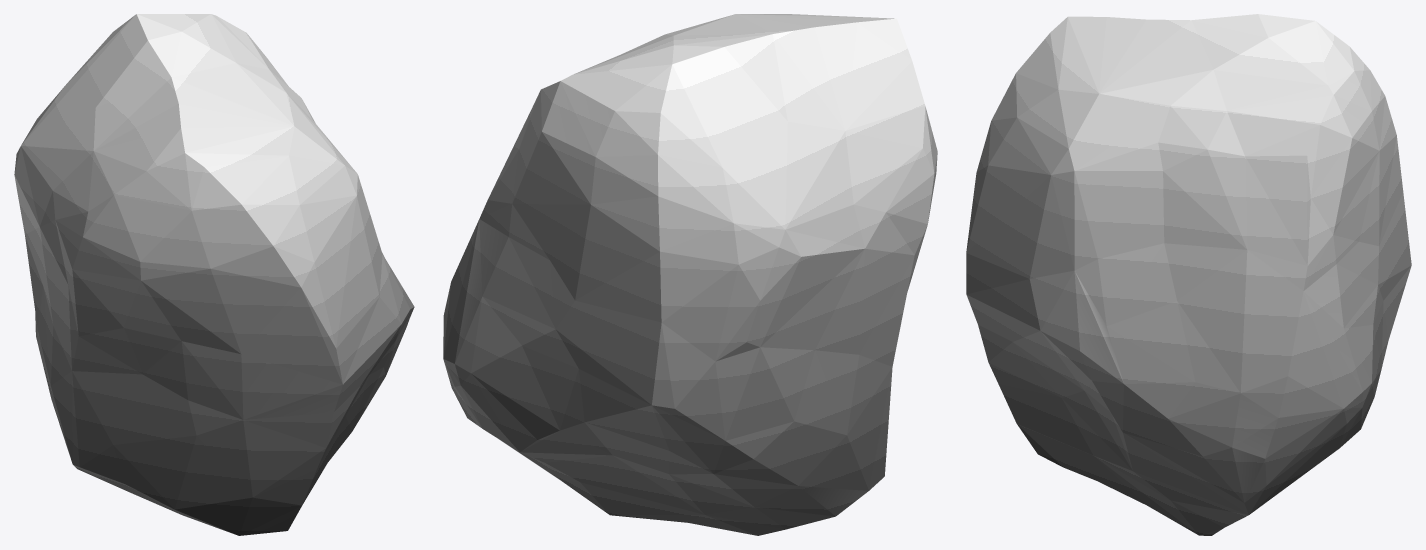
The model's file is Prefab_Rock_G.glb.
3 views of the same model, side by side, from view 1: azimuth 30°, elevation 25°; view 2: azimuth 150°, elevation 25°; view 3: azimuth 270°, elevation 25° (orthographic). The views are drawn at different scales.
Visible parts, largest first — view 1: Rock_Fractured_A; view 2: Rock_Fractured_A; view 3: Rock_Fractured_A.
Boxes of the visible parts, x1,y1,x2,y2 form: Rock_Fractured_A: [14, 14, 414, 535]; Rock_Fractured_A: [443, 14, 937, 535]; Rock_Fractured_A: [966, 14, 1411, 535].
Bounding box in the file's own units: 1.9 × 2.27 × 1.97.
1 material, 1 textured.
